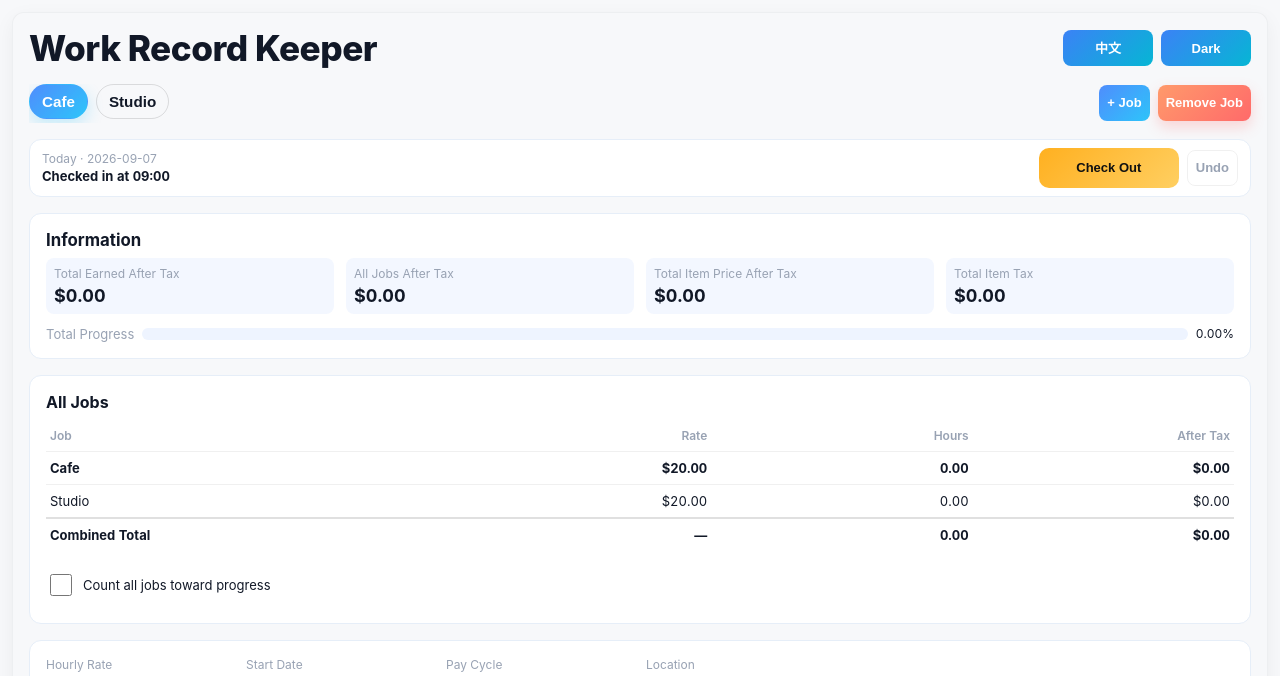
Scenario: the check in button tracks the active job, not the app as a whole
The width and height of the screenshot is (1280, 676).
Expected: the button with class "check-btn" reads "Check Out", [1039,148,1179,188]
Click the button "Studio": (133, 101) [96,84,169,119]
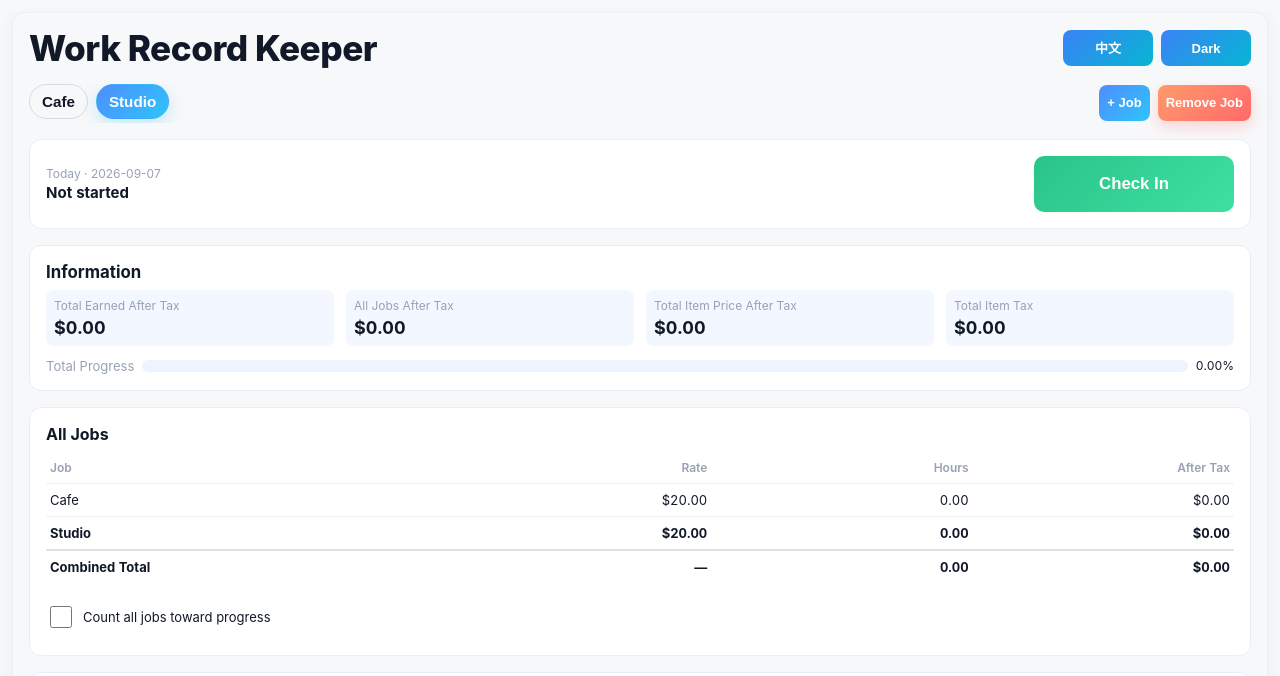
Result: the button with class "check-btn" reads "Check In" at [1034,156,1234,212]
